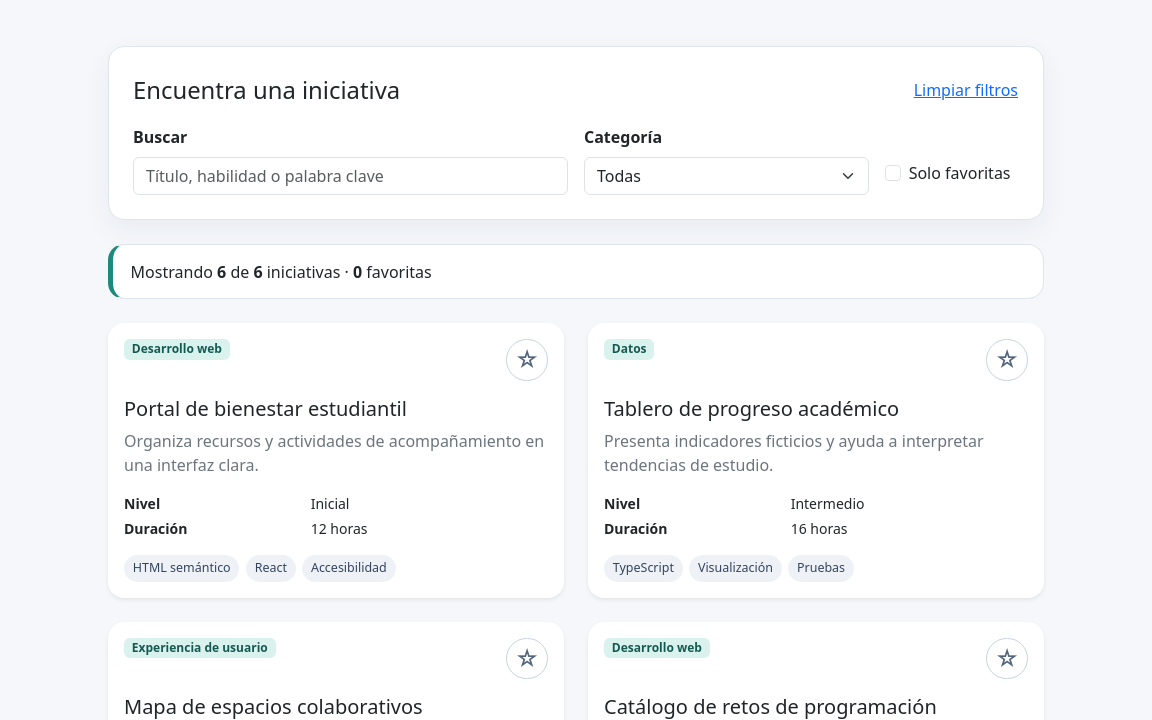
App › adds and removes a favorite
(page scrolled)
Click the button named "agregar a favoritas" at coordinates (527, 360), box [506,339,548,381]
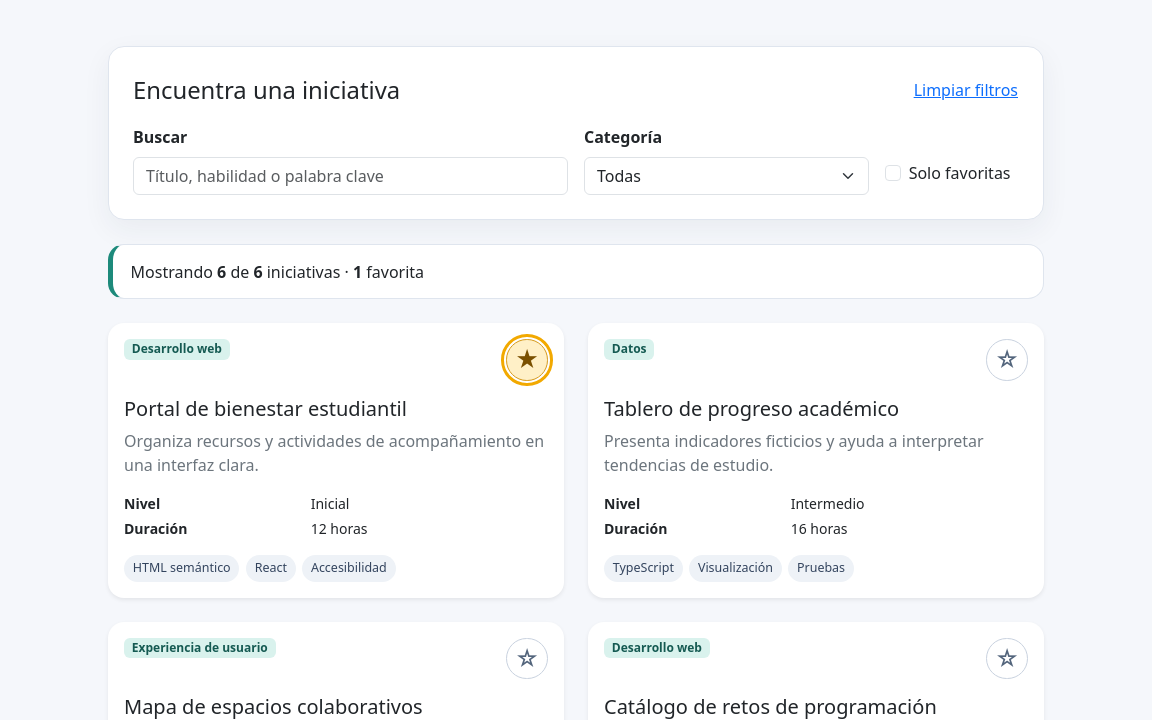
Now the text "Mostrando 6 de 6 iniciativas · 1 favorita" is shown, box [131,261,424,283]
Click the button named "quitar de favoritas" at coordinates (527, 360), box [506,339,548,381]
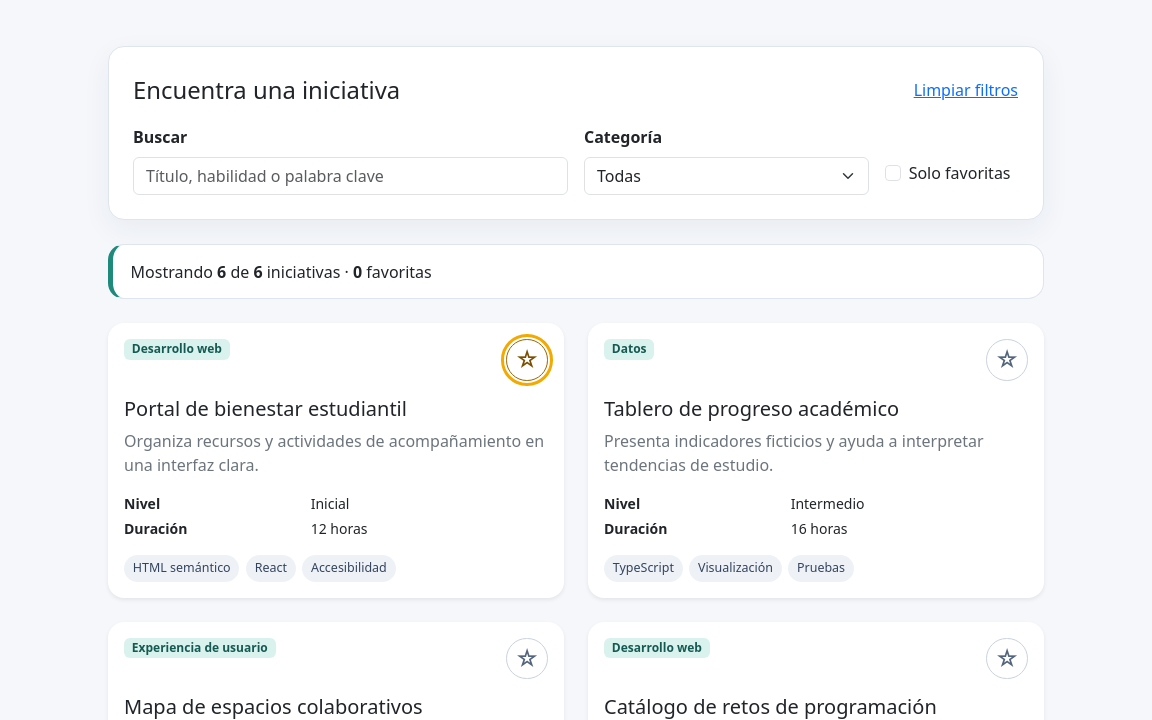
Now the text "Mostrando 6 de 6 iniciativas · 0 favoritas" is shown, box [131,261,432,283]
